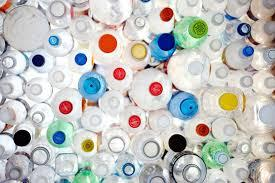Plastic bottle: (0, 0, 272, 179)
